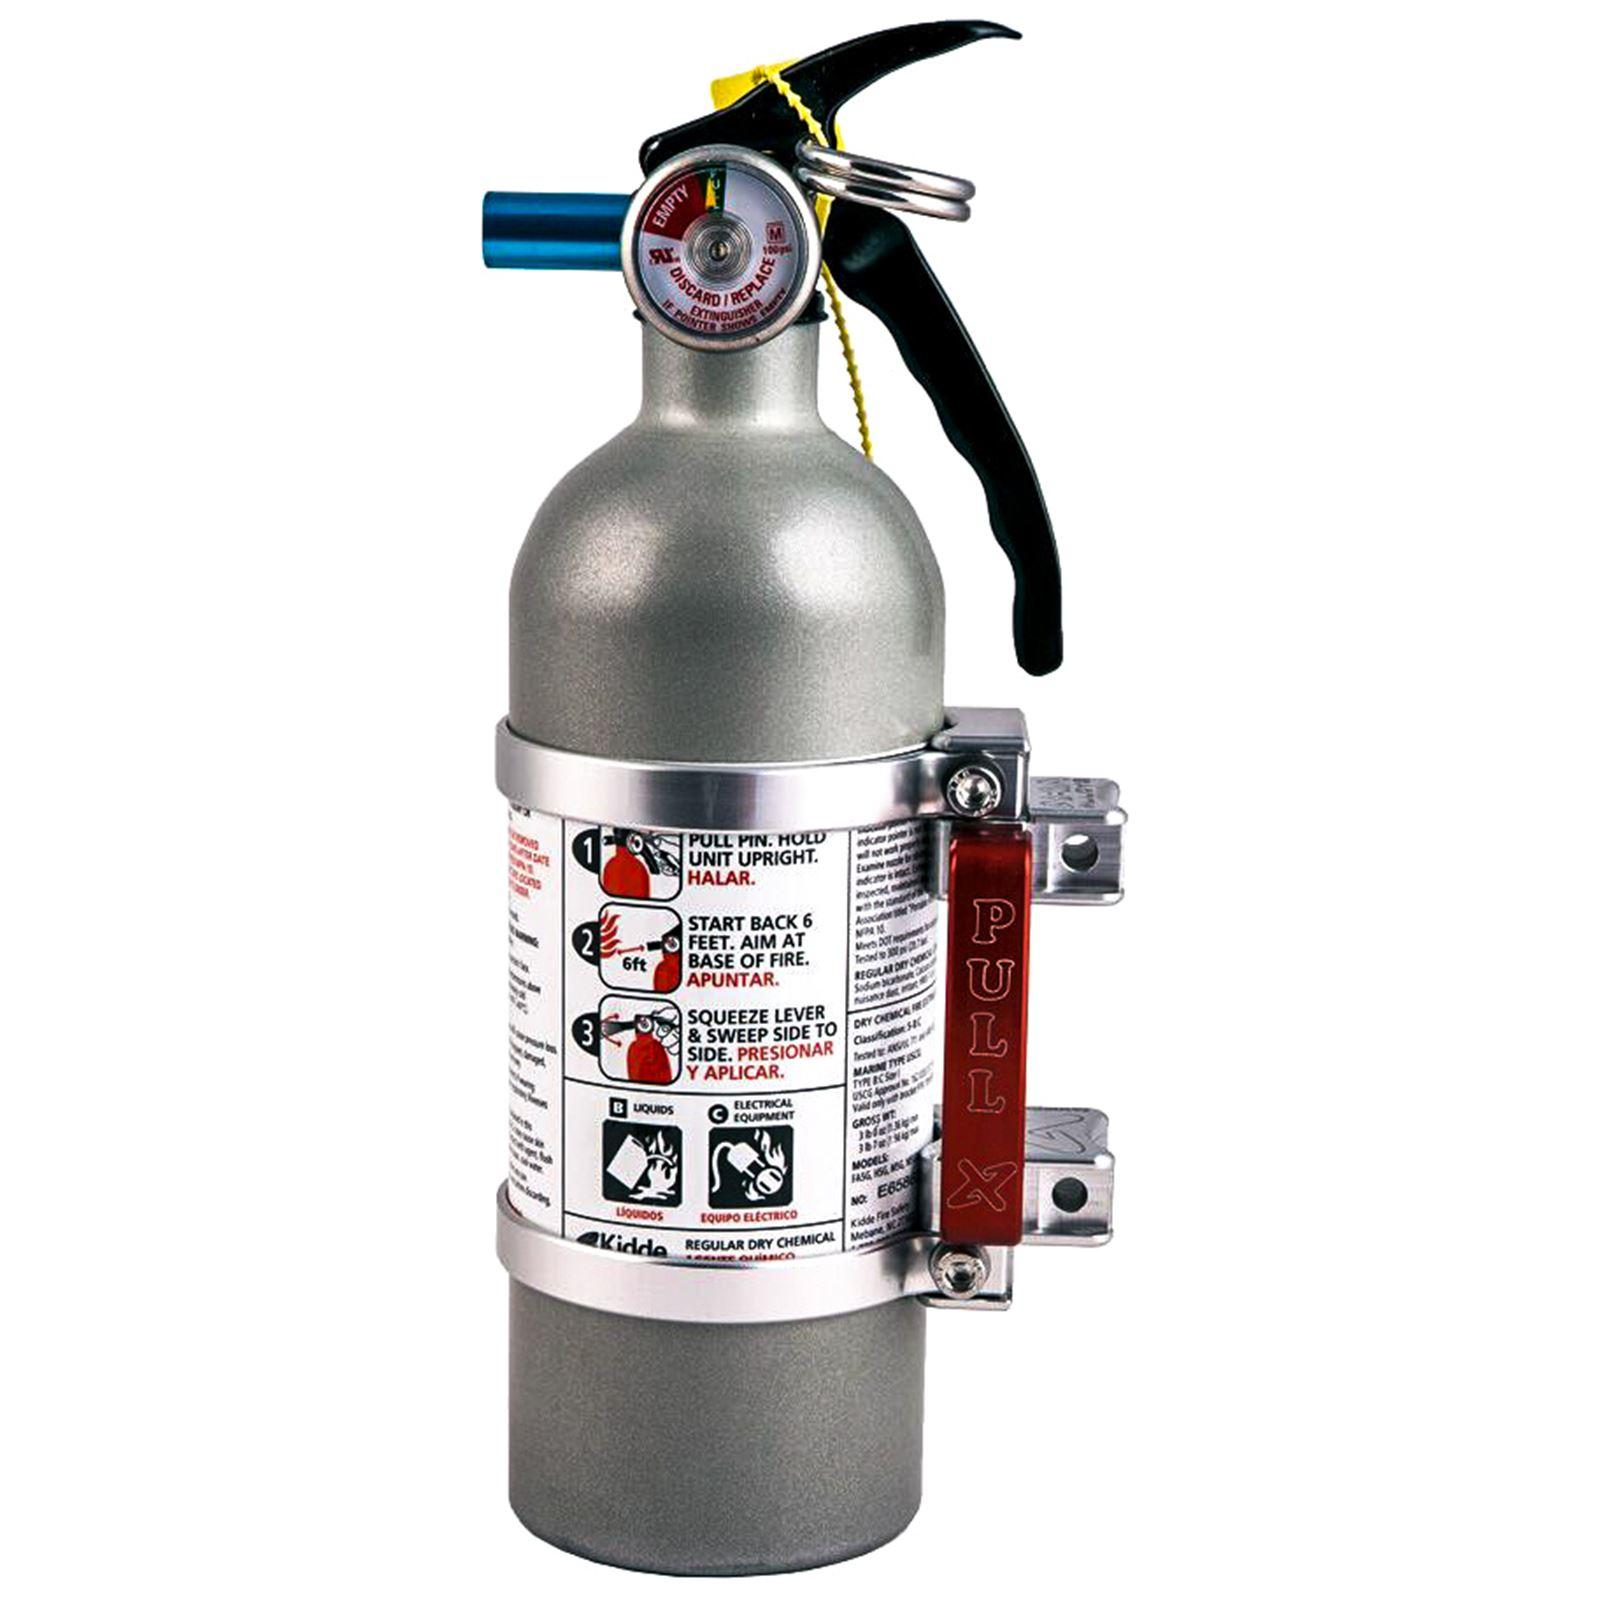Fire Extinguisher: (400, 15, 1155, 1600)
